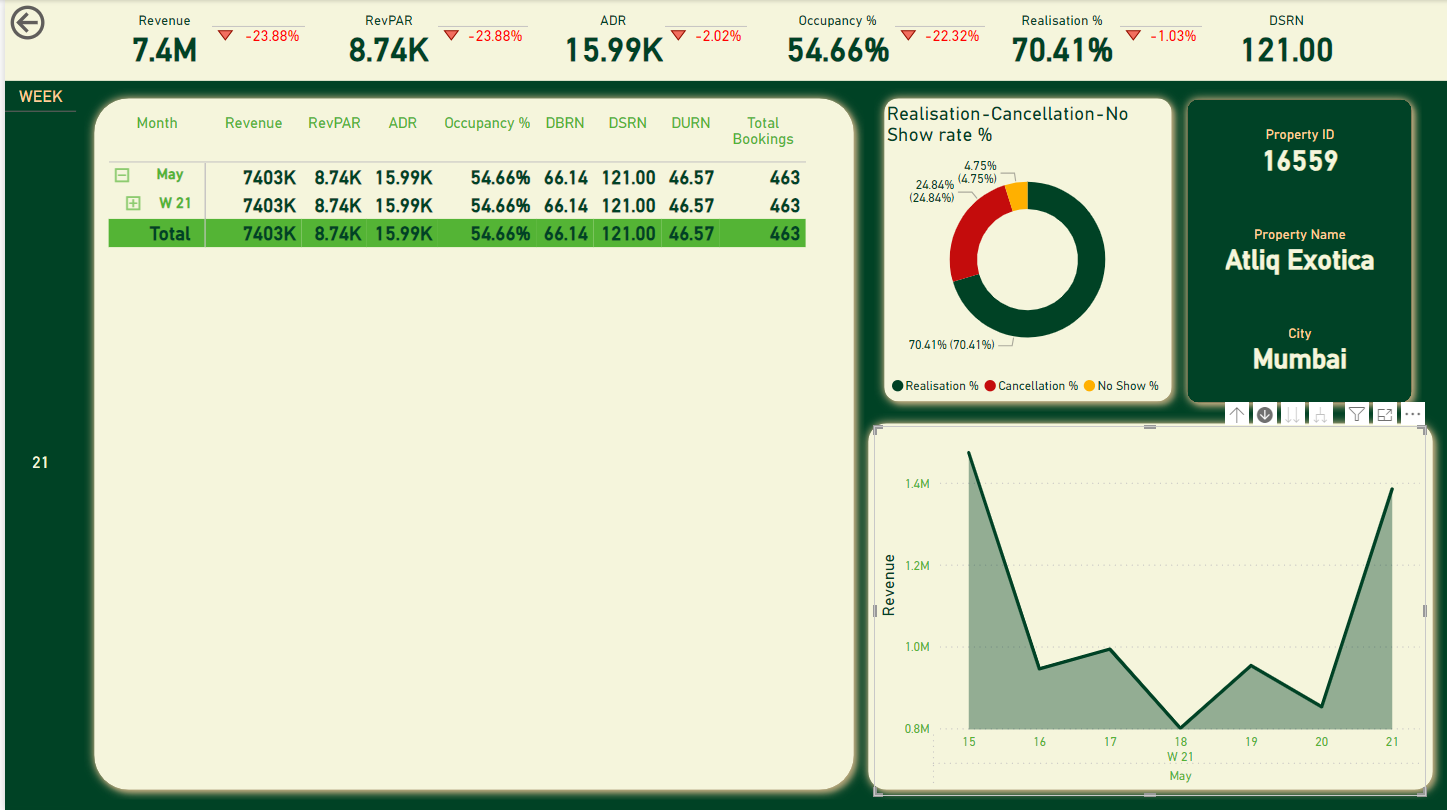

This screenshot's page, from the dashboard's own definition file:
{"tool":"powerbi","page":{"name":"Drill","canvas":[1280,720],"ordinal":2},"visuals":[{"type":"shape","box":[0,0,1280,71.7],"z":0},{"type":"cardVisual","fields":{"Data":["Key Measures (2).Revenue","Key Measures (2).RevPAR","Key Measures (2).ADR","Key Measures (2).Occupancy %","Key Measures (2).Realisation %","Key Measures (2).DSRN"]},"box":[40.8,0,1198.8,71.8],"z":1000},{"type":"advancedSlicerVisual","title":"WEEK","fields":{"Values":["dim_date.wn"]},"box":[0,77.3,63.2,642.5],"z":2000},{"type":"tableEx","fields":{"Values":["Key Measures (2).Revenue WoW change %"]},"box":[177.3,0,103.7,44.3],"z":3000},{"type":"tableEx","fields":{"Values":["Key Measures (2).Revpar WoW change %"]},"box":[377.7,0,102,44.3],"z":4000},{"type":"tableEx","fields":{"Values":["Key Measures (2).ADR WoW change %"]},"box":[579,0,94,44.3],"z":5000},{"type":"tableEx","fields":{"Values":["Key Measures (2).Occupancy WoW change %"]},"box":[783,0,106.4,44.3],"z":6000},{"type":"tableEx","fields":{"Values":["Key Measures (2).Realisation WoW change %"]},"box":[982.5,0,96.7,44.3],"z":7000},{"type":"shape","title":"realisation Shape","box":[70,78,691.6,631.3],"z":9000},{"type":"pivotTable","fields":{"Rows":["dim_date.date.Variation.Date Hierarchy.Month","dim_date.week no","dim_date.date.Variation.Date Hierarchy.Day"],"Values":["Key Measures (2).Revenue","Key Measures (2).RevPAR","Key Measures (2).ADR","Key Measures (2).Occupancy %","Key Measures (2).DBRN","Key Measures (2).DSRN","Key Measures (2).DURN","Key Measures (2).Total Bookings"]},"box":[86.9,93.1,665,601.2],"z":10000},{"type":"shape","title":"realisation Shape","box":[770.2,78,273,287],"z":11000},{"type":"donutChart","title":"Realisation-Cancellation-No Show rate %","fields":{"Y":["Key Measures (2).Realisation %","Key Measures (2).Cancellation %","Key Measures (2).No Show rate %"]},"box":[776.7,90.4,259.8,269.6],"z":12000},{"type":"actionButton","box":[0,0,100,40],"z":13000},{"type":"shape","title":"realisation Shape","box":[756,366.2,518.7,343.2],"z":14000},{"type":"areaChart","fields":{"Category":["dim_date.date.Variation.Date Hierarchy.Month","dim_date.week no","dim_date.date.Variation.Date Hierarchy.Day"],"Y":["Key Measures (2).Revenue"]},"box":[770.5,377.7,489.5,328.1],"z":15000},{"type":"shape","title":"hotel cate Shape","box":[1039.2,78.9,217.2,287.3],"z":16000},{"type":"cardVisual","fields":{"Data":["Min(dim_hotels.property_id)","Min(dim_hotels.property_name)","Min(dim_hotels.city)"]},"box":[1047.2,88.7,202.2,266.9],"z":17000}]}

Visuals, with their boxes in screenshot pixels (x1, y1, x2, y2), scaled from the page's 1280x720 canvas onto the 1447x810 screenshot:
shape: <box>0,0,1446,81</box>
cardVisual - Key Measures (2).Revenue x Key Measures (2).RevPAR: <box>46,0,1401,81</box>
"WEEK" advancedSlicerVisual: <box>0,87,71,809</box>
tableEx - Key Measures (2).Revenue WoW change %: <box>200,0,318,50</box>
tableEx - Key Measures (2).Revpar WoW change %: <box>427,0,542,50</box>
tableEx - Key Measures (2).ADR WoW change %: <box>655,0,761,50</box>
tableEx - Key Measures (2).Occupancy WoW change %: <box>885,0,1005,50</box>
tableEx - Key Measures (2).Realisation WoW change %: <box>1111,0,1220,50</box>
"realisation Shape" shape: <box>79,88,861,798</box>
pivotTable - dim_date.date.Variation.Date Hierarchy.Month x dim_date.week no: <box>98,105,850,781</box>
"realisation Shape" shape: <box>871,88,1179,411</box>
"Realisation-Cancellation-No Show rate %" donutChart: <box>878,102,1172,405</box>
actionButton: <box>0,0,113,45</box>
"realisation Shape" shape: <box>855,412,1441,798</box>
areaChart - dim_date.date.Variation.Date Hierarchy.Month x dim_date.week no: <box>871,425,1424,794</box>
"hotel cate Shape" shape: <box>1175,89,1420,412</box>
cardVisual - Min(dim_hotels.property_id) x Min(dim_hotels.property_name): <box>1184,100,1412,400</box>
